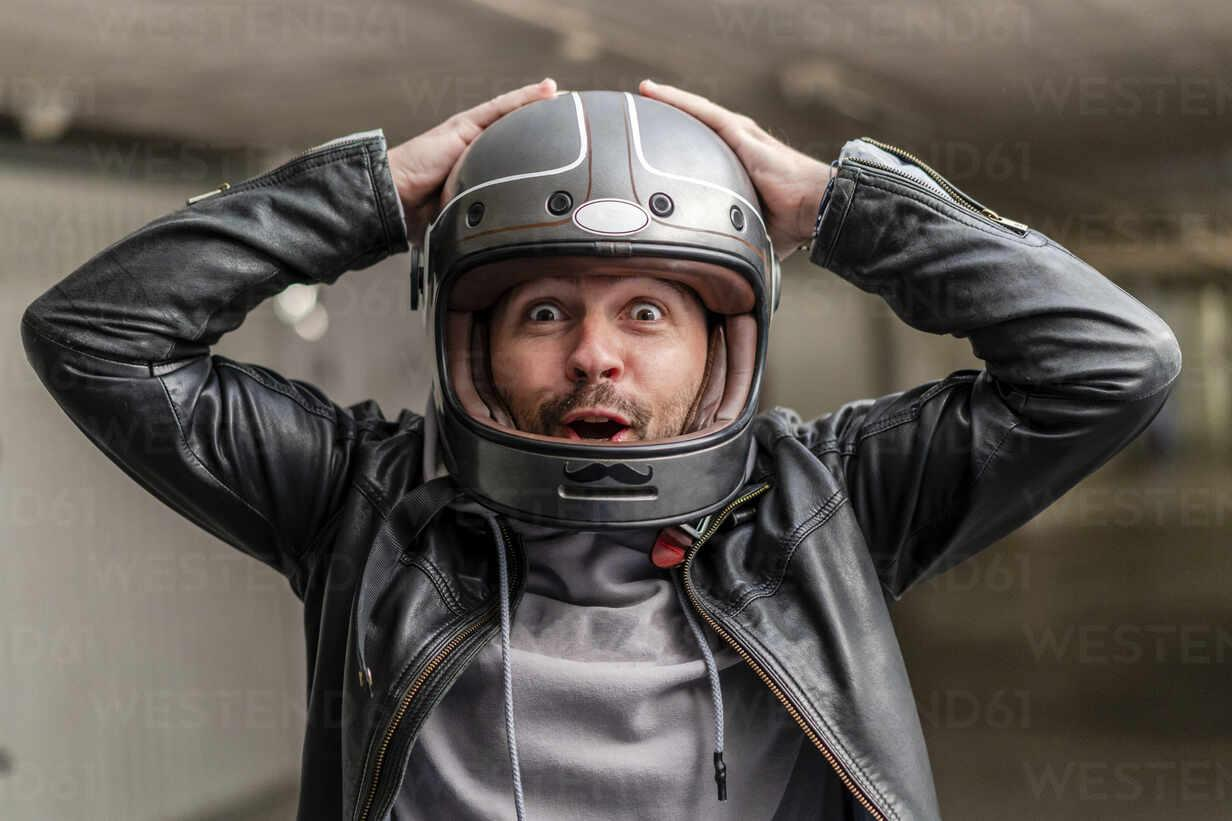Helmet: (414, 86, 786, 529)
